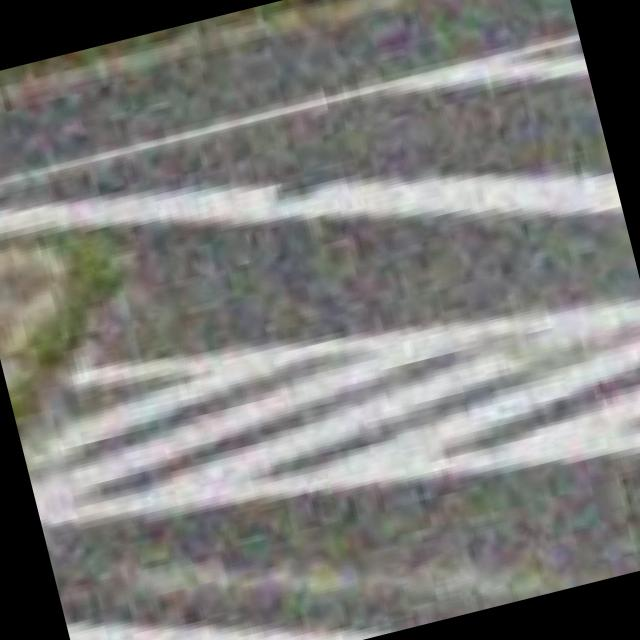zebra: (23, 299, 640, 532)
